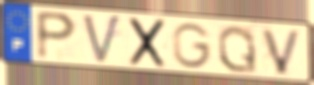G: (171, 21, 214, 70)
P: (34, 9, 79, 62)
Q: (216, 23, 260, 75)
V: (80, 13, 124, 67), (259, 26, 305, 76)
X: (128, 16, 168, 70)
